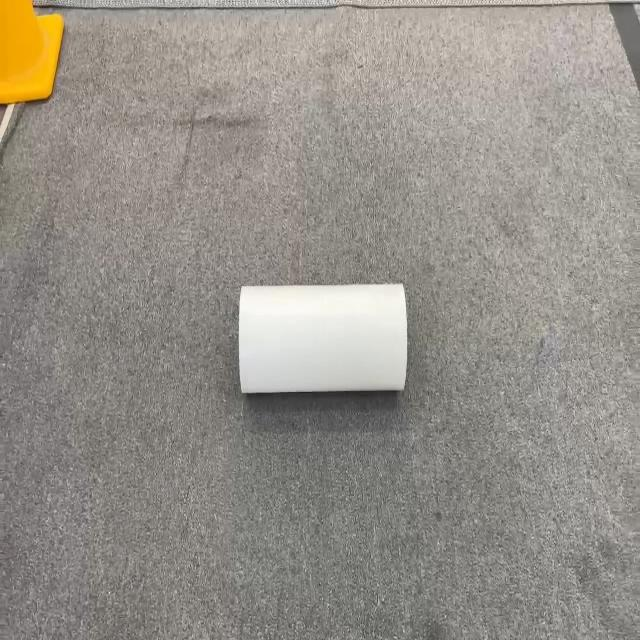coral: (238, 281, 408, 395)
